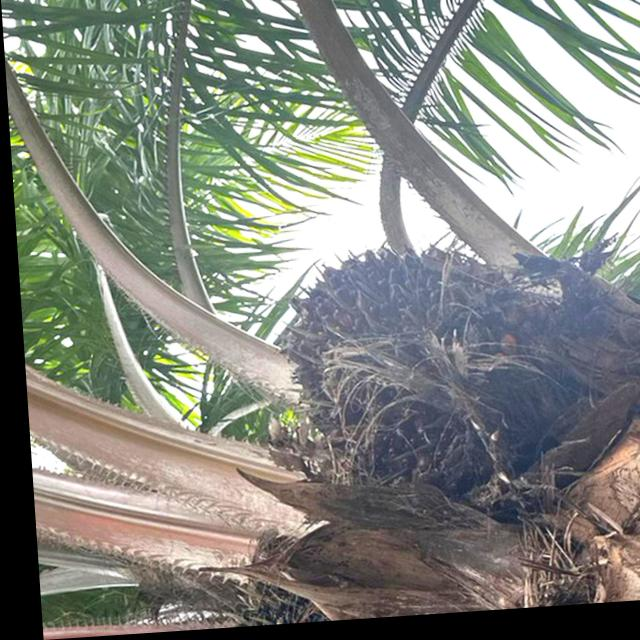ripe: (265, 239, 558, 496)
